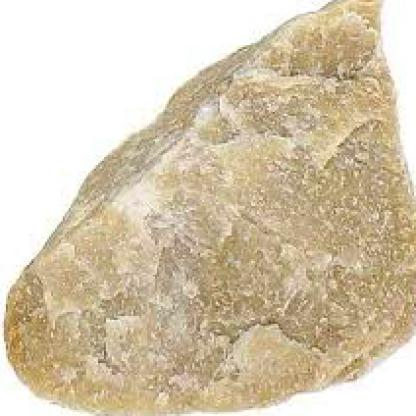Metamorphic_Quartize: (8, 0, 414, 414)
